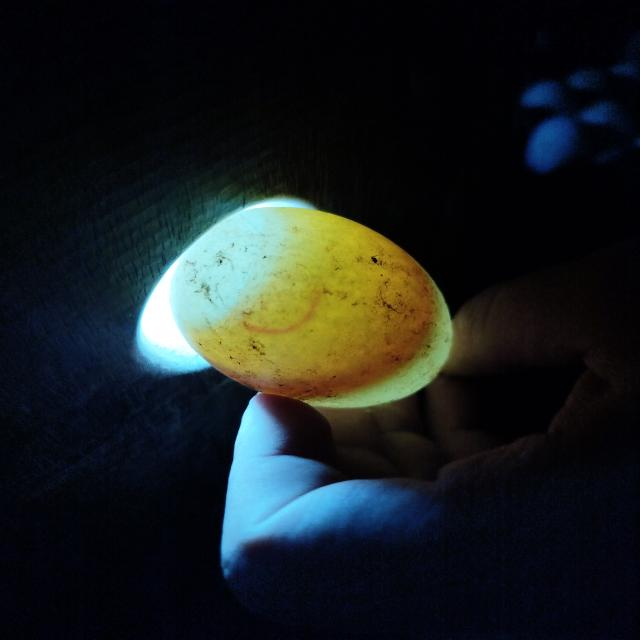Camara de Ar: (172, 207, 282, 329)
